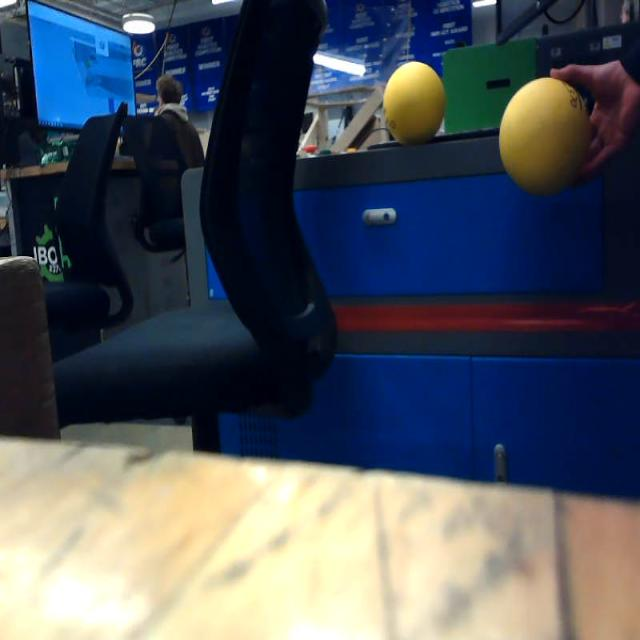Fuel: (499, 78, 592, 196), (384, 62, 446, 146)
